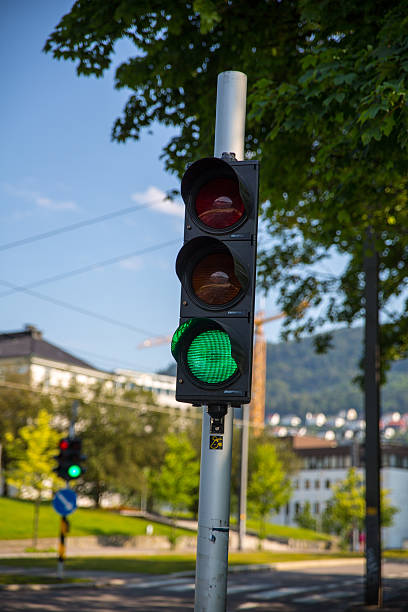trafficlight: (168, 152, 266, 413)
